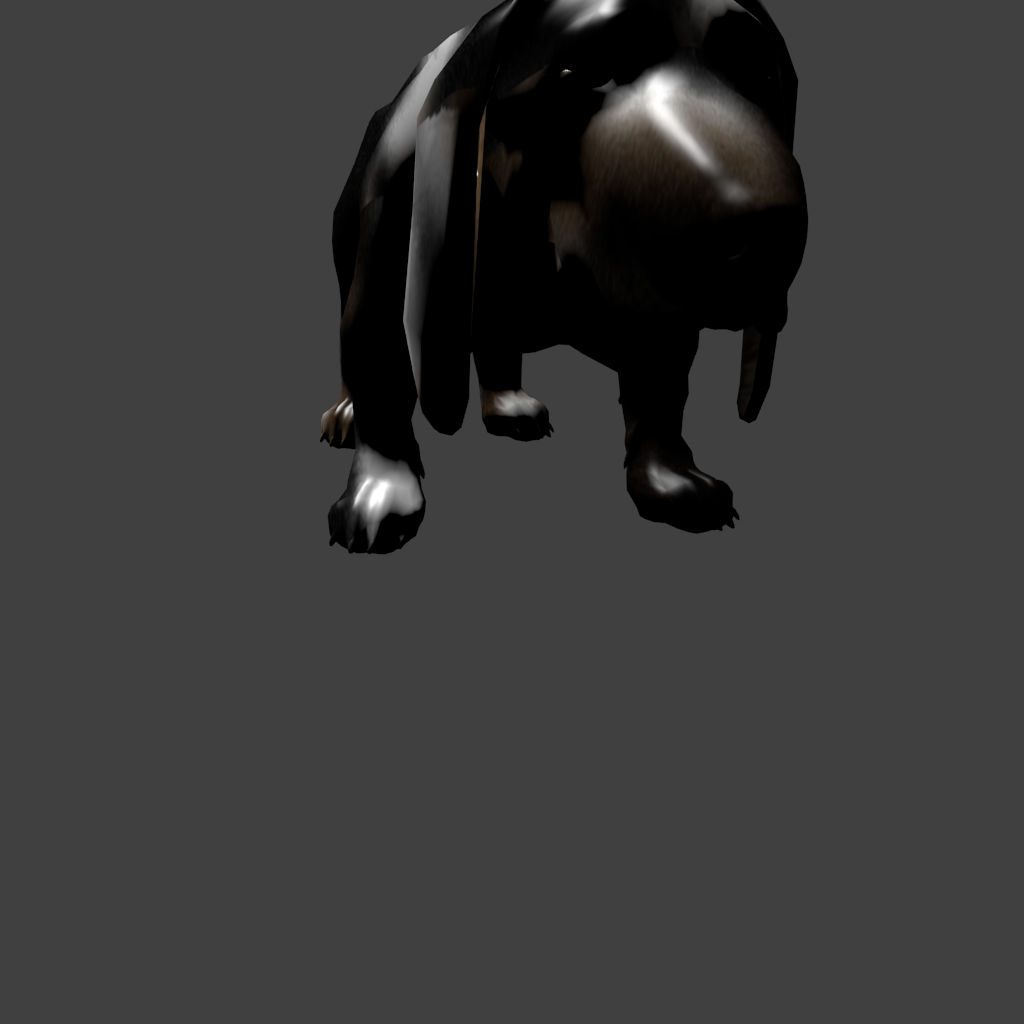Dog: (320, 0, 488, 554)
